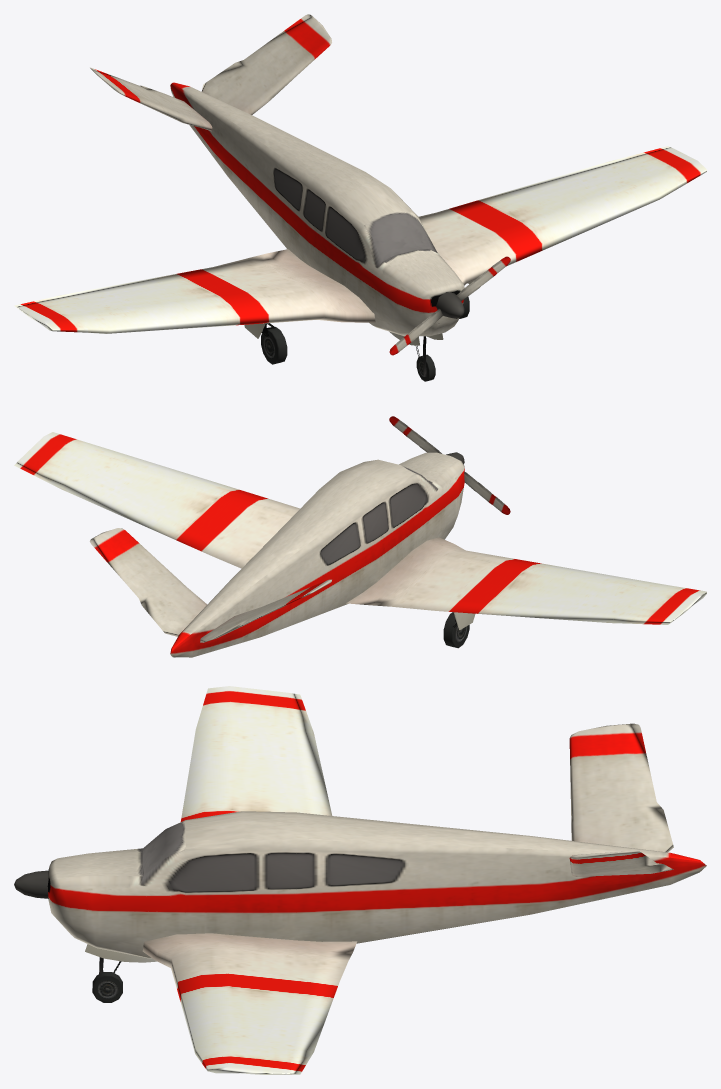
File: sportflugzeug_beech.fbx
The picture shows the model from 3 angles, top to bottom: view 1: azimuth 30°, elevation 25°; view 2: azimuth 150°, elevation 25°; view 3: azimuth 270°, elevation 25°; orthographic projection. The views are drawn at different scales.
Visible parts, largest first — view 1: body_main; view 2: body_main; view 3: body_main.
Part boxes in pixels (x1,y1,x2,y2): body_main: (14, 14, 706, 381); body_main: (14, 416, 706, 657); body_main: (14, 686, 706, 1074).
Bounding box in the file's own units: 918 × 238 × 707.
